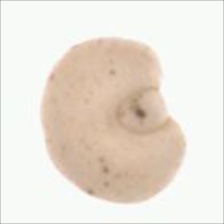L5: (115, 85, 174, 137)
L6: (39, 35, 188, 206)
